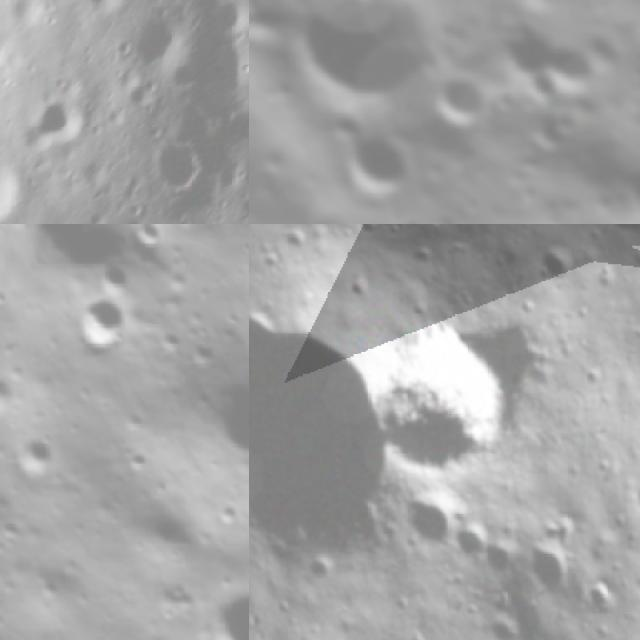crater: (249, 285, 432, 599), (349, 307, 557, 512), (268, 0, 455, 128), (484, 0, 611, 125), (168, 338, 249, 509), (324, 105, 435, 216), (108, 484, 211, 588), (58, 280, 147, 368), (420, 54, 507, 142), (509, 518, 592, 606), (389, 480, 472, 562), (589, 100, 640, 224), (169, 564, 249, 640), (3, 423, 72, 492), (524, 233, 590, 297), (444, 510, 503, 569), (154, 126, 206, 192), (139, 13, 184, 74), (0, 361, 34, 438), (30, 98, 81, 149), (118, 224, 173, 258), (617, 456, 640, 531), (277, 224, 320, 260), (0, 162, 17, 224), (80, 0, 117, 9)
